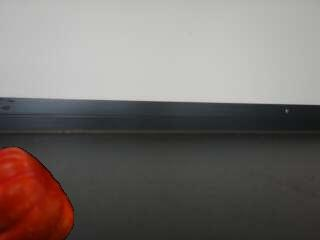Pumpkin: (0, 144, 74, 240)
